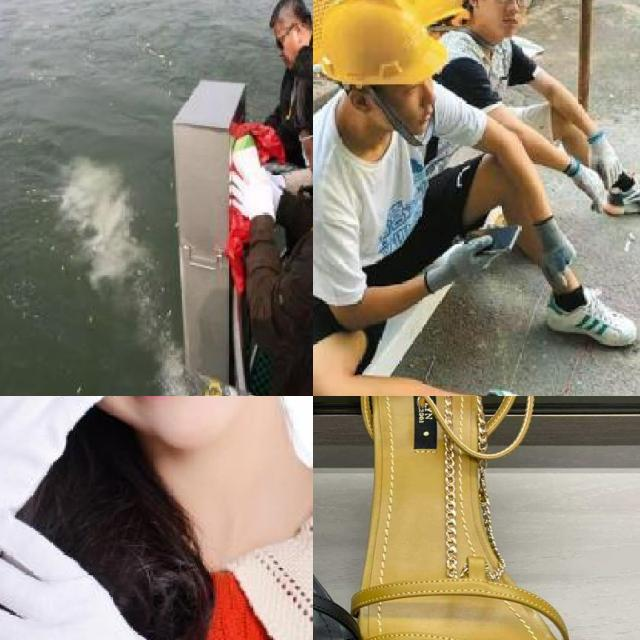Sandals: (354, 396, 628, 640), (313, 396, 380, 640)
face_nomask: (364, 73, 447, 138), (484, 0, 527, 39), (265, 28, 299, 66)
glasses: (488, 0, 536, 10)
hand_glove: (0, 491, 179, 640), (0, 396, 147, 566), (226, 159, 278, 217), (449, 235, 501, 283), (538, 234, 573, 286), (573, 163, 607, 214), (588, 145, 622, 189)
head_helmet: (318, 0, 449, 87)
head_nohelmet: (264, 0, 309, 26)
person: (313, 0, 567, 396), (0, 396, 313, 640), (407, 0, 640, 234), (232, 55, 313, 396)
shoes: (540, 280, 640, 354), (597, 176, 640, 218)
